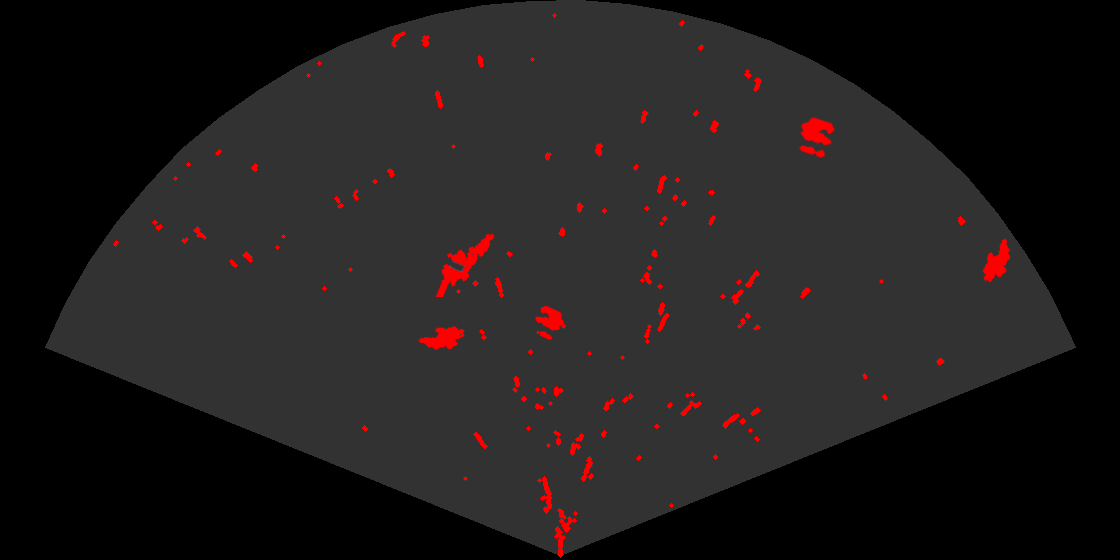AUV: (981, 237, 1012, 284), (417, 325, 466, 351)
ball: (797, 115, 837, 160), (534, 304, 566, 342)
frogman: (434, 232, 496, 297)
